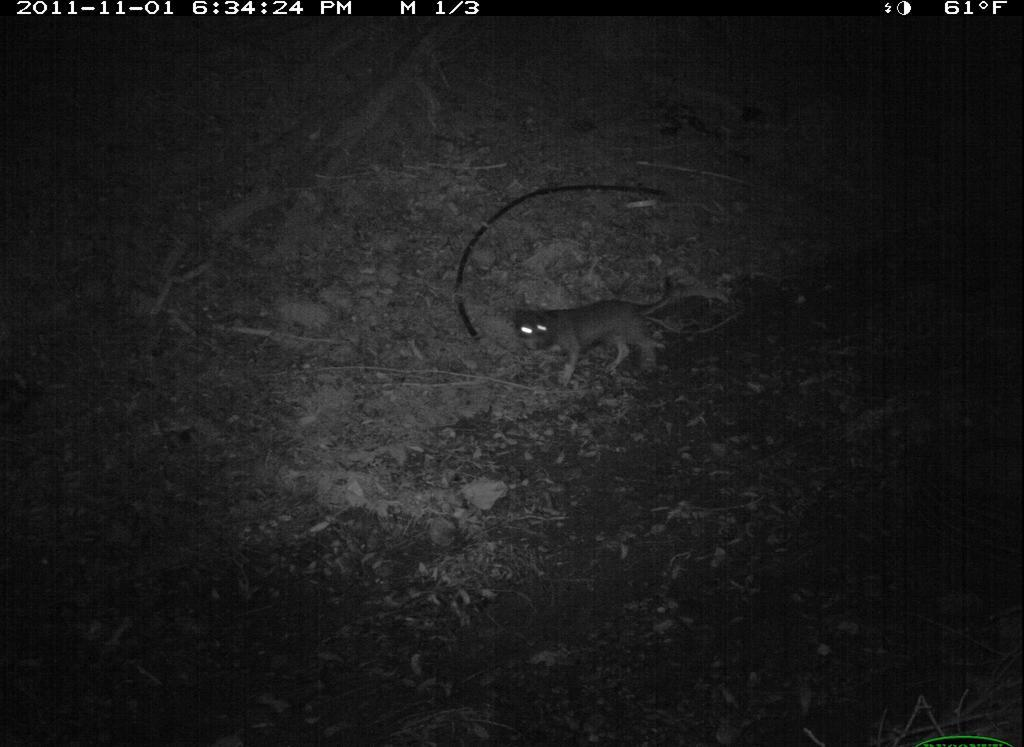dog: (510, 274, 685, 390)
